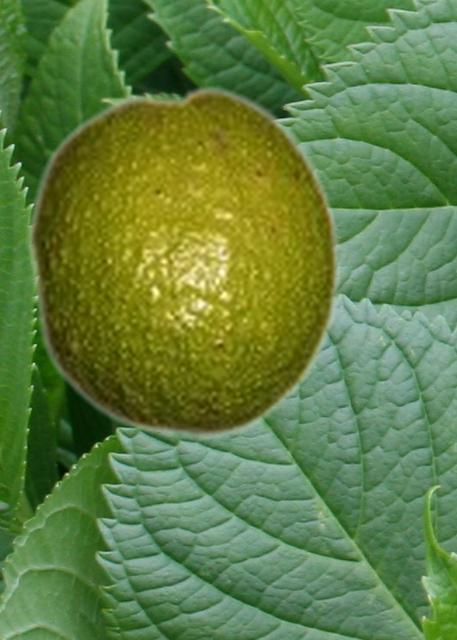avocado: (25, 83, 342, 442)
